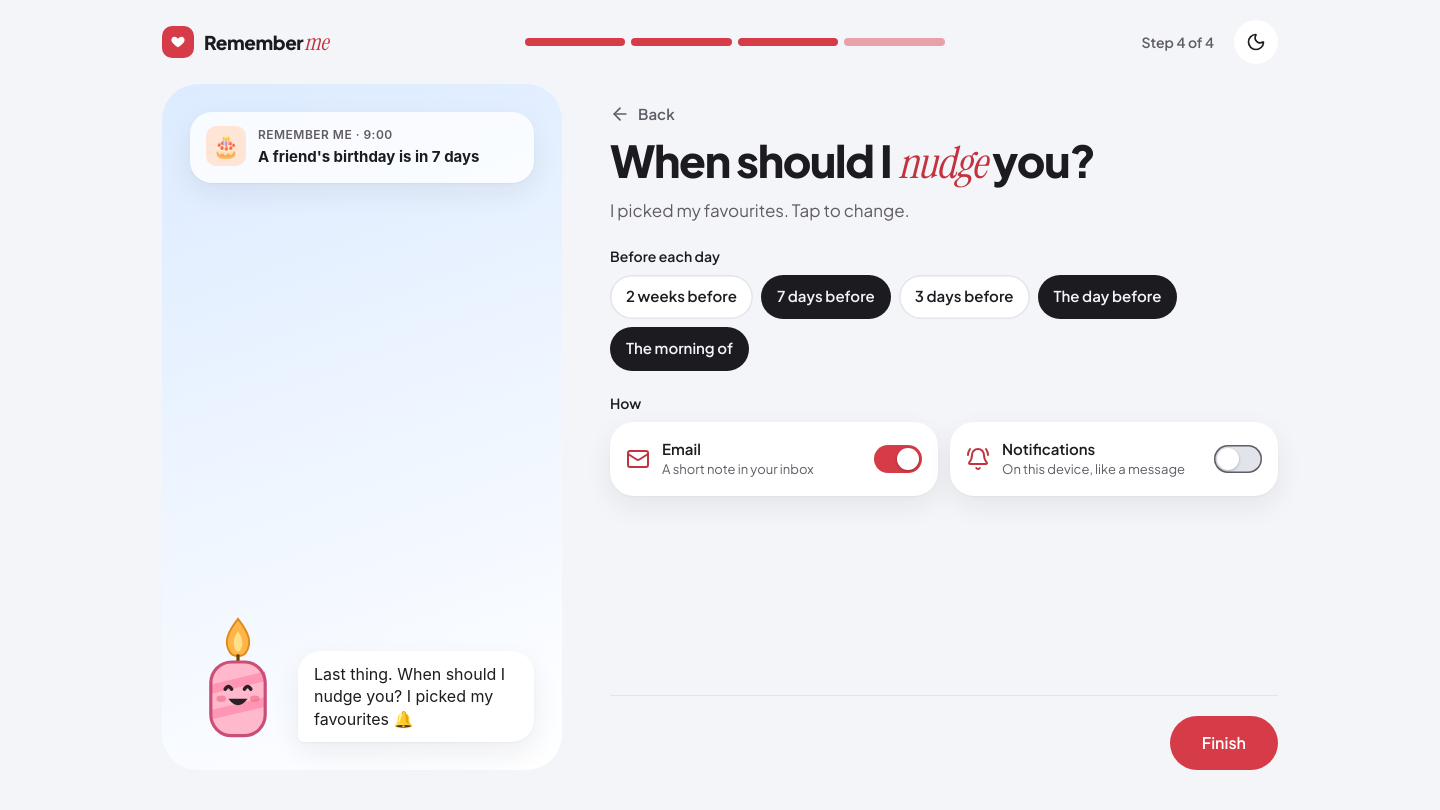
Test: Onboarding · step 4, Reminders, and Done › needs at least one reminder
Click the button "7 days before" at (826, 297), box [761,275,891,319]
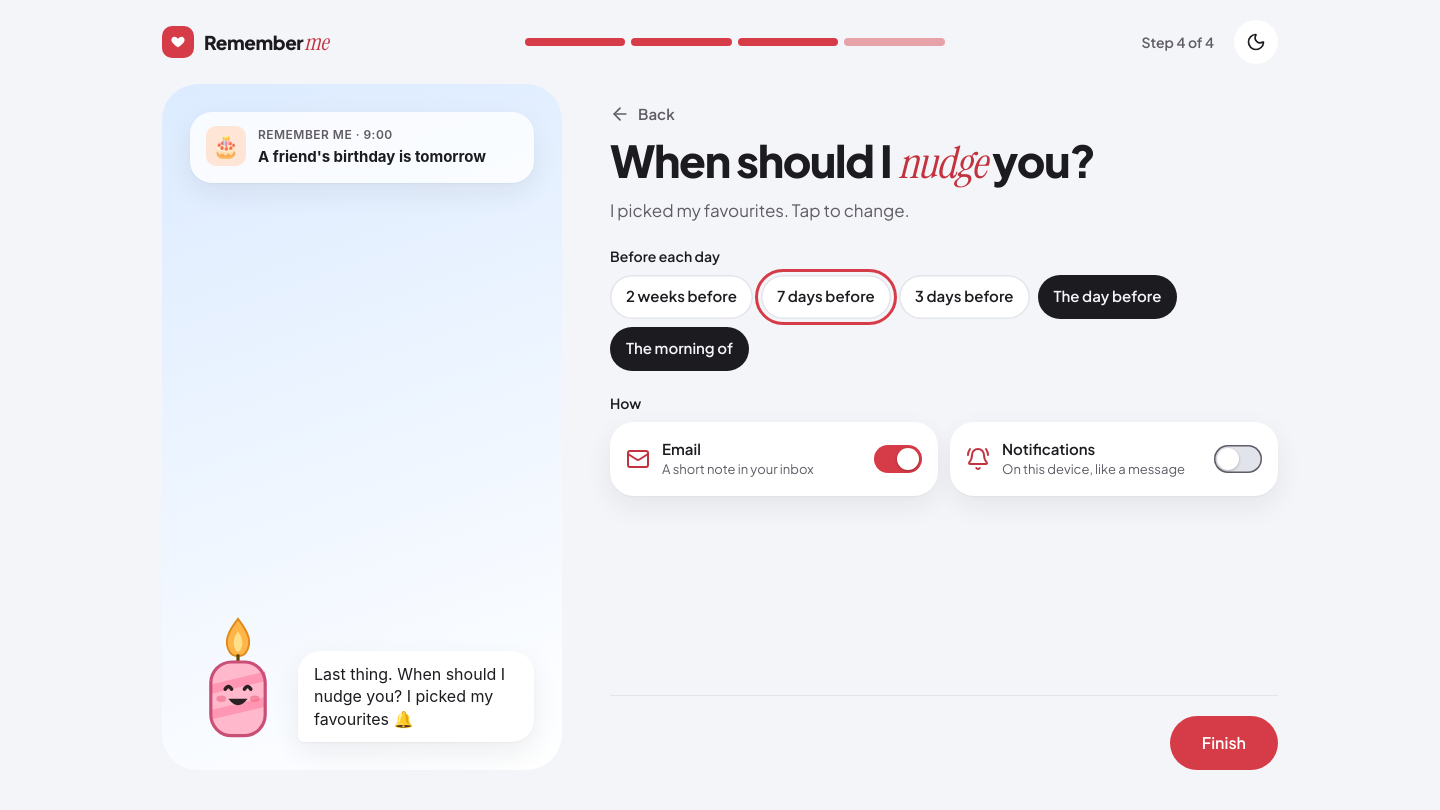
Click the button "The day before" at (1107, 297), box [1038,275,1177,319]
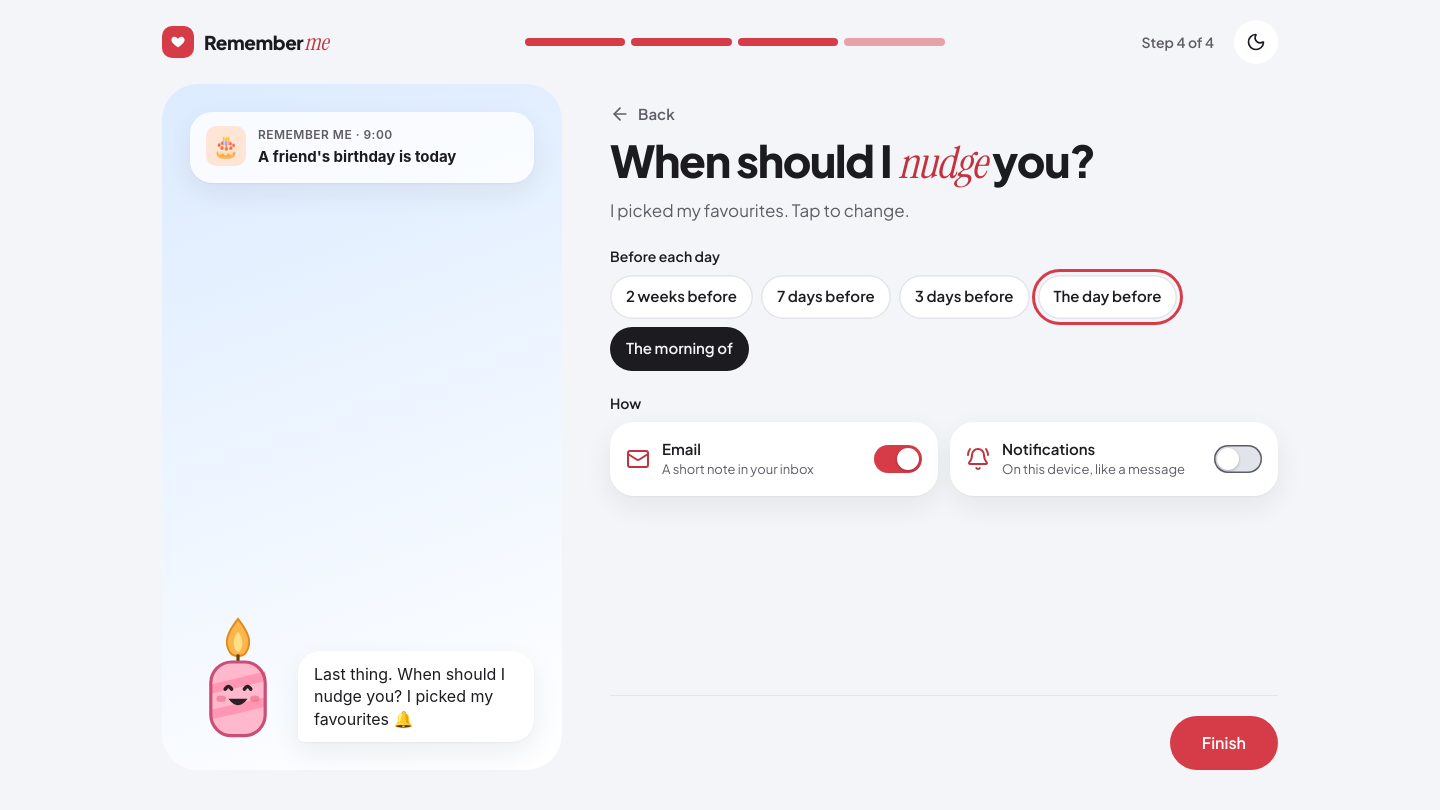
Click the button "The morning of" at (679, 349), box [610,327,749,371]
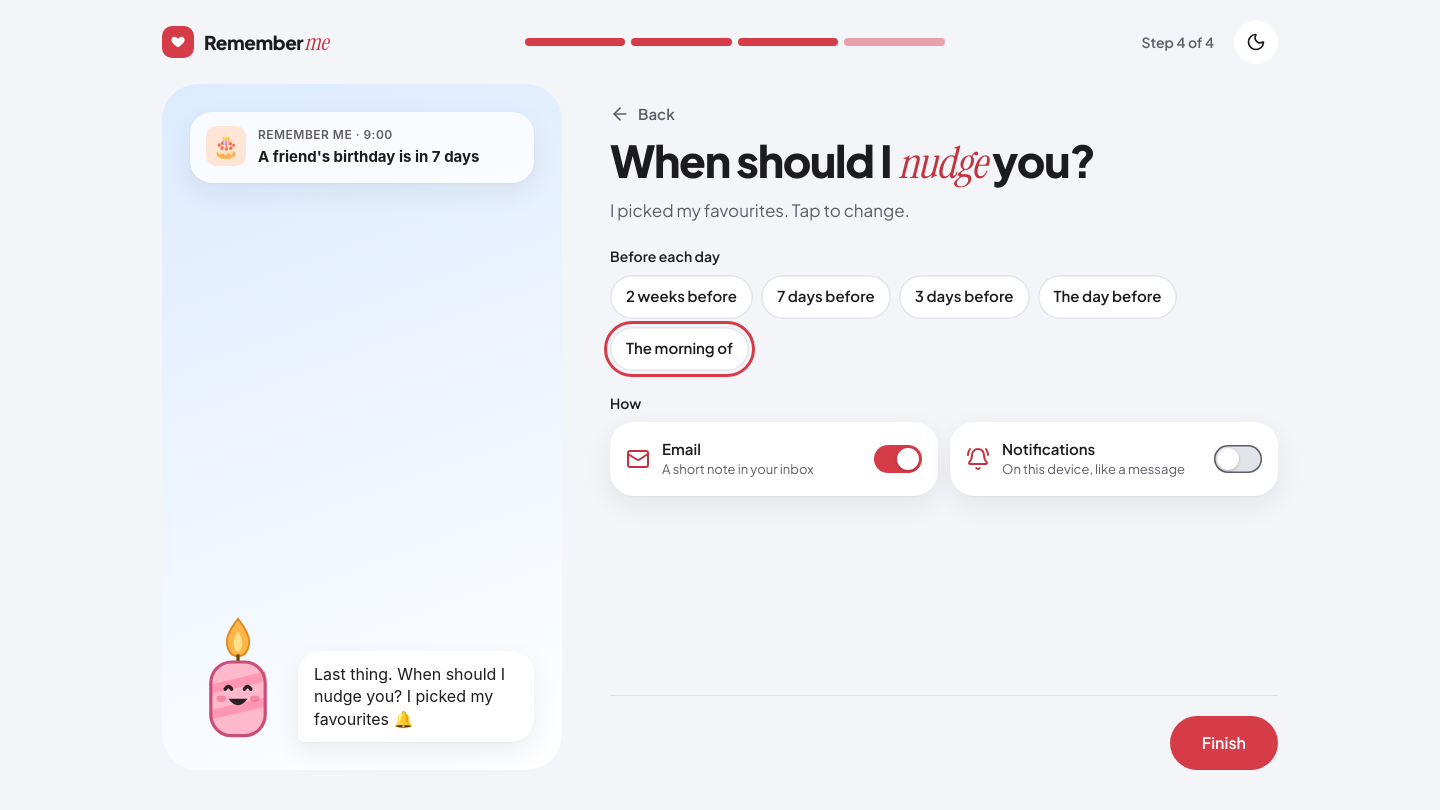
Click the button "Finish" at (1224, 743), box [1170,716,1278,770]
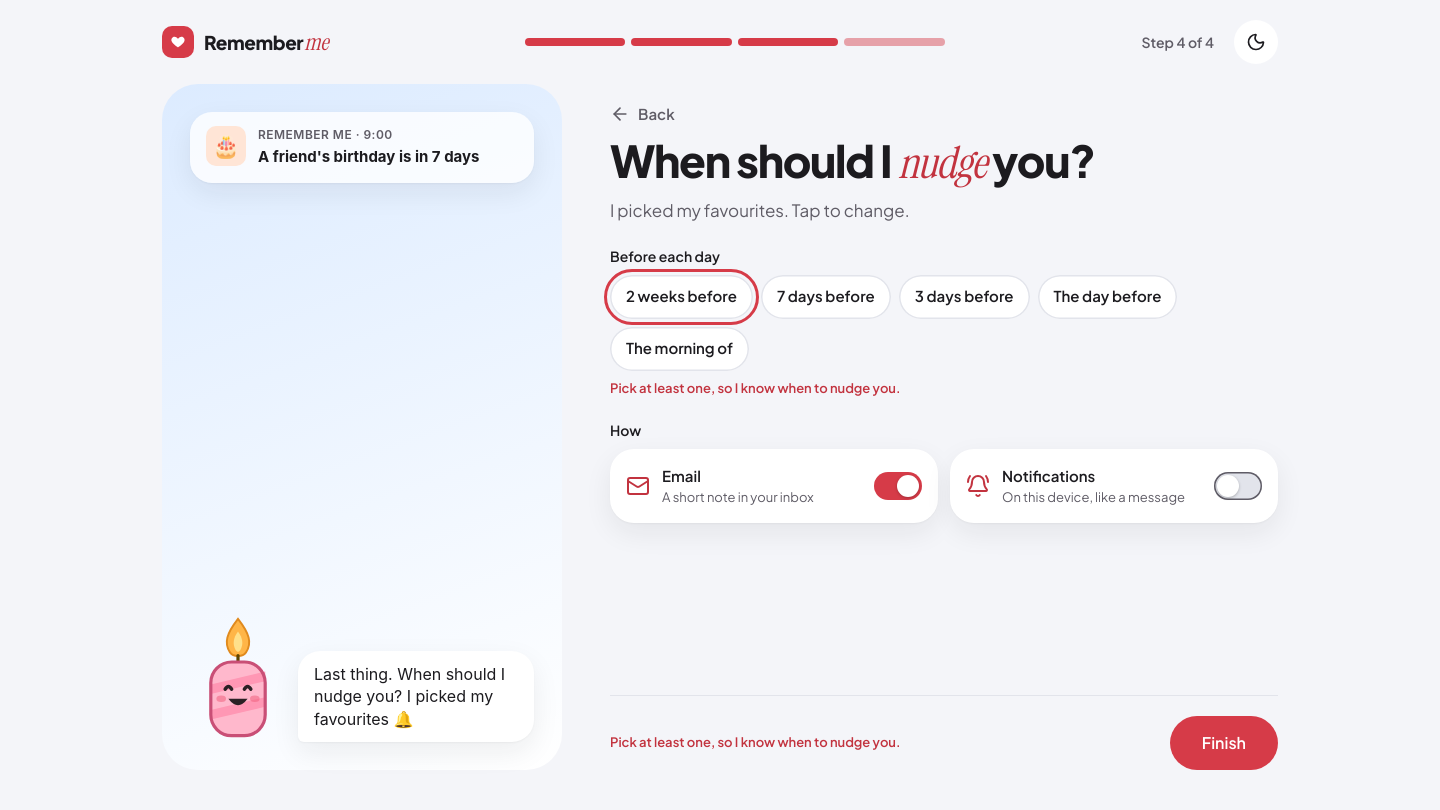
Now the text with id "onboarding-needs" reads "Pick at least one, so I know when to nudge you.", box [610,734,900,750]
